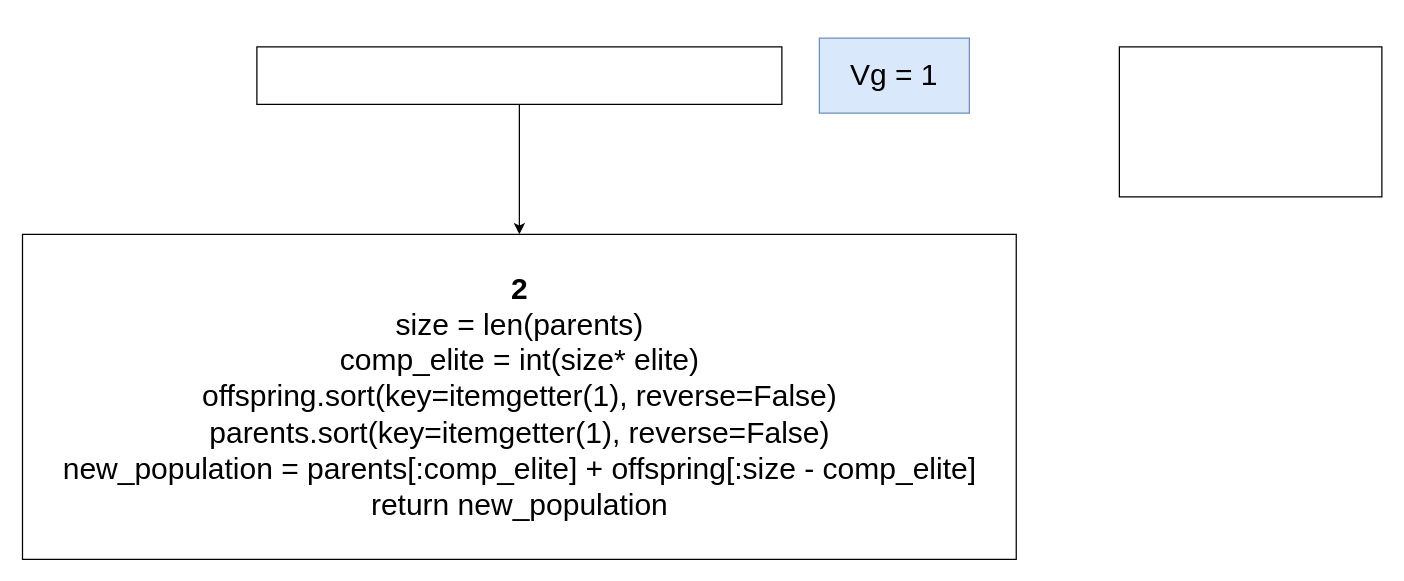
Image size: 1404x581. Some labels were removed from this diagram. Each missing label, with the box of its shape:
1 - def elitism(elite,parents,offspring):: (256, 46, 782, 104)
Paths P1 = {1, 2}: (1118, 46, 1382, 197)
